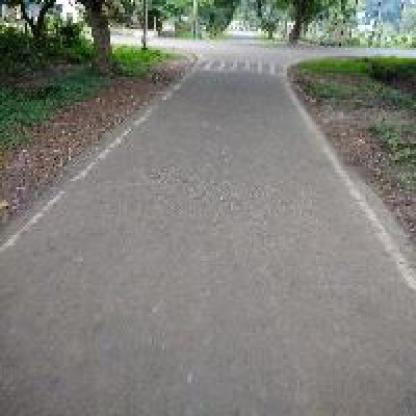Speed Bump: (191, 58, 285, 71)
